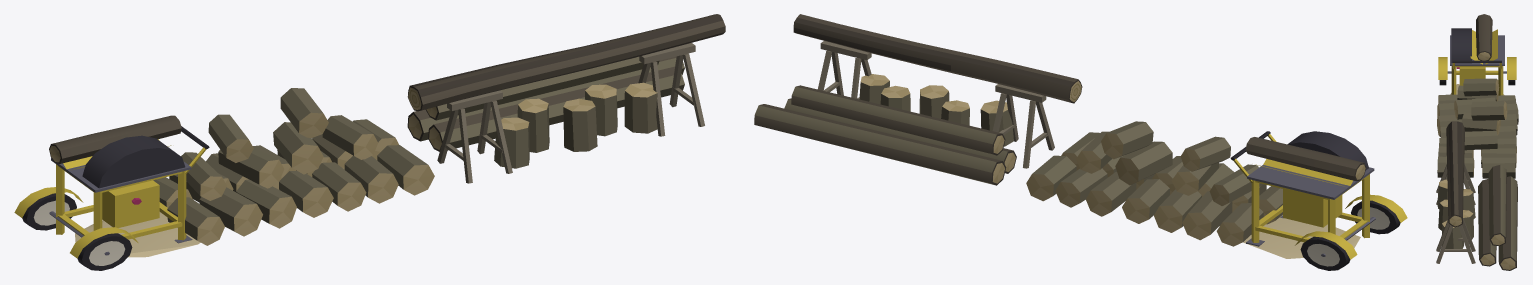
File: sawbench.glb
The picture shows the model from 3 angles, left to right: view 1: azimuth 30°, elevation 25°; view 2: azimuth 150°, elevation 25°; view 3: azimuth 270°, elevation 25°; orthographic projection. The views are drawn at different scales.
Visible parts, largest first — view 1: Sawbench; view 2: Sawbench; view 3: Sawbench.
Boxes of the visible parts, x1,y1,x2,y2 form: Sawbench: (14,14,725,270); Sawbench: (754,14,1407,270); Sawbench: (1436,14,1518,270).
Size of the model in its own units: 8 by 1.24 by 1.4.
